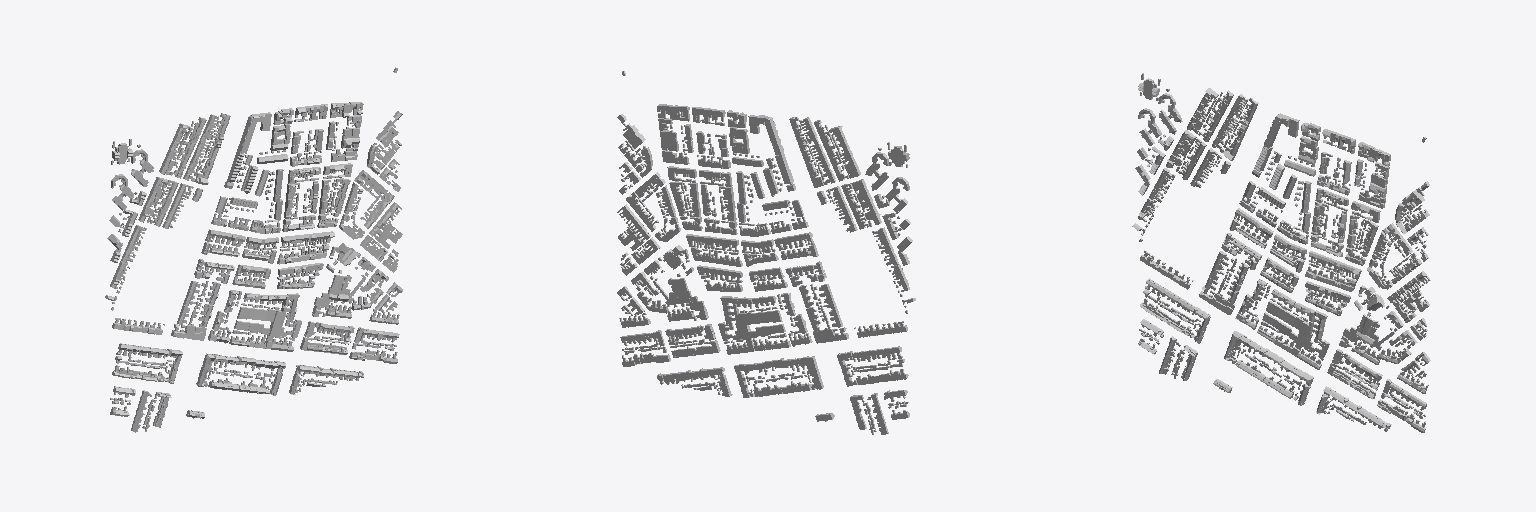
3 views of the same model, side by side, from view 1: azimuth 30°, elevation 25°; view 2: azimuth 150°, elevation 25°; view 3: azimuth 330°, elevation 25° (orthographic).
Bounding box in the file's own units: 521 × 510 × 21.22.